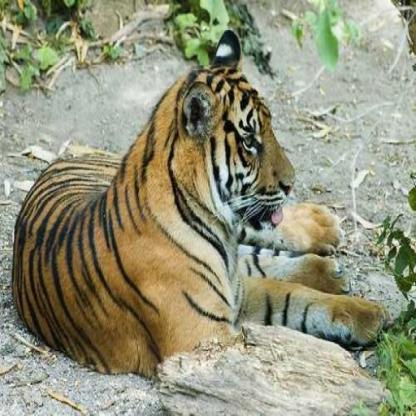Tiger: (8, 21, 396, 380)
